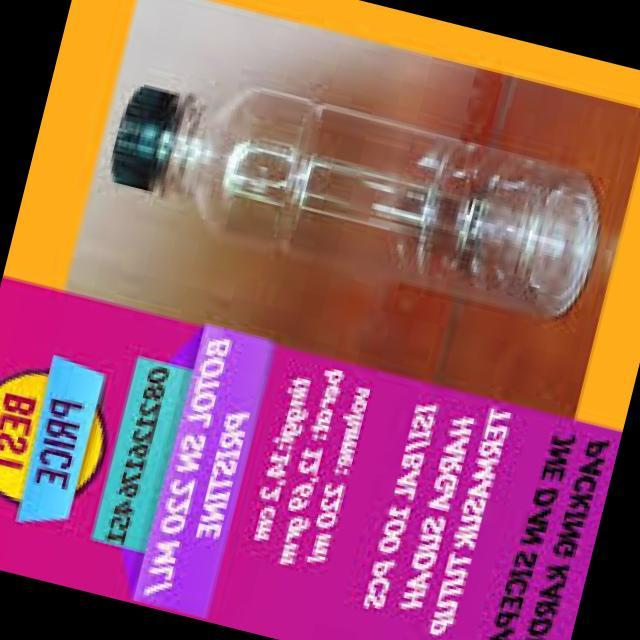good: (86, 22, 612, 338)
